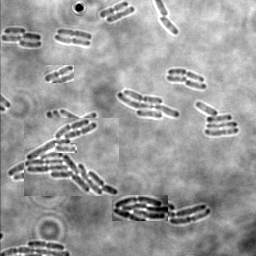Dividing: (44, 65, 74, 83), (167, 67, 204, 81), (99, 1, 128, 18), (54, 34, 90, 47), (56, 28, 92, 39), (27, 239, 64, 249)
Microcolony: (24, 118, 119, 196), (117, 88, 180, 119), (195, 101, 238, 136), (112, 195, 168, 221), (1, 27, 42, 48)
Rod: (106, 5, 135, 23), (157, 16, 178, 34), (184, 79, 206, 89), (55, 143, 77, 153), (166, 73, 187, 82)
